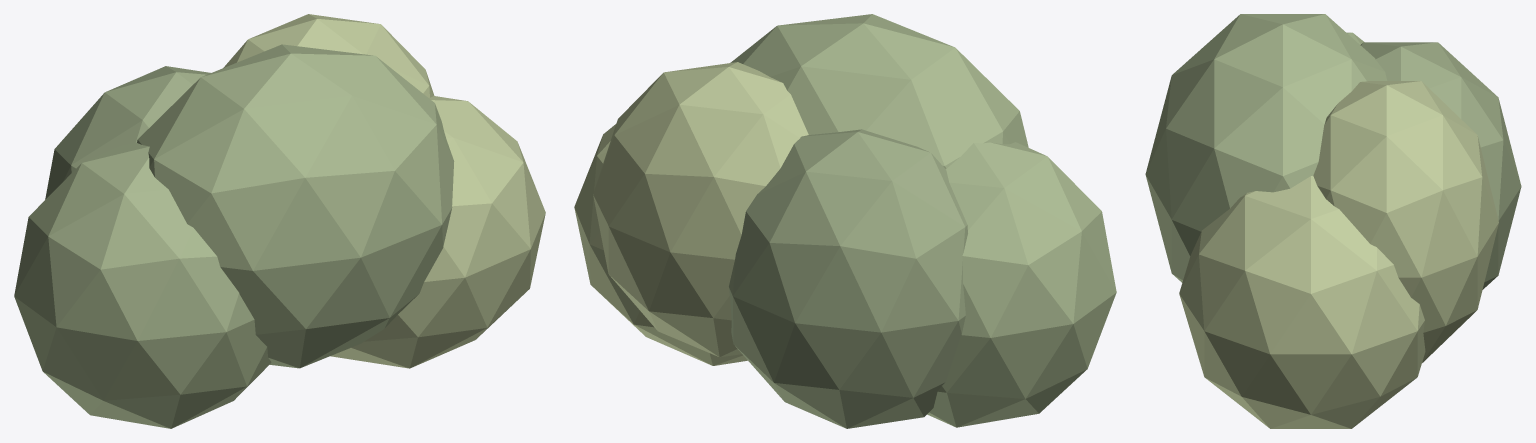
The model's file is hiding_bush.fbx.
3 views of the same model, side by side, from view 1: azimuth 30°, elevation 25°; view 2: azimuth 150°, elevation 25°; view 3: azimuth 270°, elevation 25° (orthographic). The views are drawn at different scales.
Parts seen in each view (by area): view 1: hiding_bush_geometry; view 2: hiding_bush_geometry; view 3: hiding_bush_geometry.
Boxes of the visible parts, bbox=[...] form: hiding_bush_geometry: bbox=[14, 14, 545, 428]; hiding_bush_geometry: bbox=[574, 14, 1116, 428]; hiding_bush_geometry: bbox=[1145, 14, 1521, 428].
Bounding box in the file's own units: 1.98 × 1.34 × 1.34.
